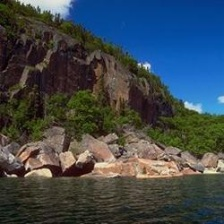neutral: (3, 3, 224, 202)
